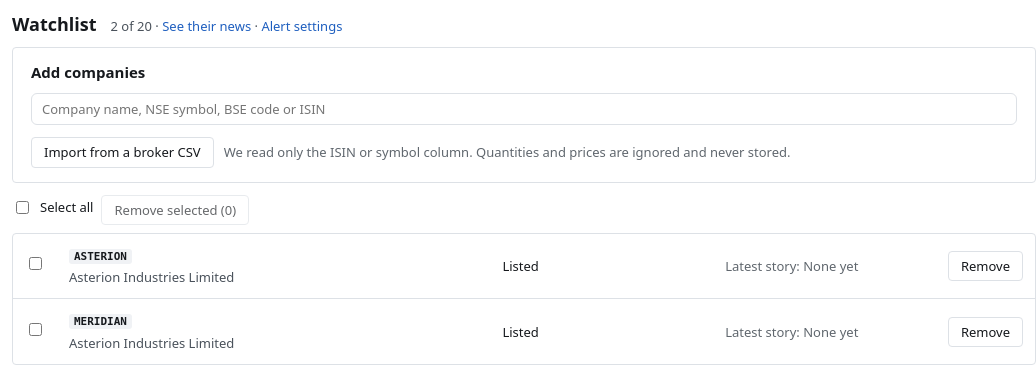
Test case: watchlist (PRD-003 §2) › keeps failed removals selected so they can be retried, without claiming success
Click the checkbox labelled "Select all": (22, 207) [16,201,29,214]
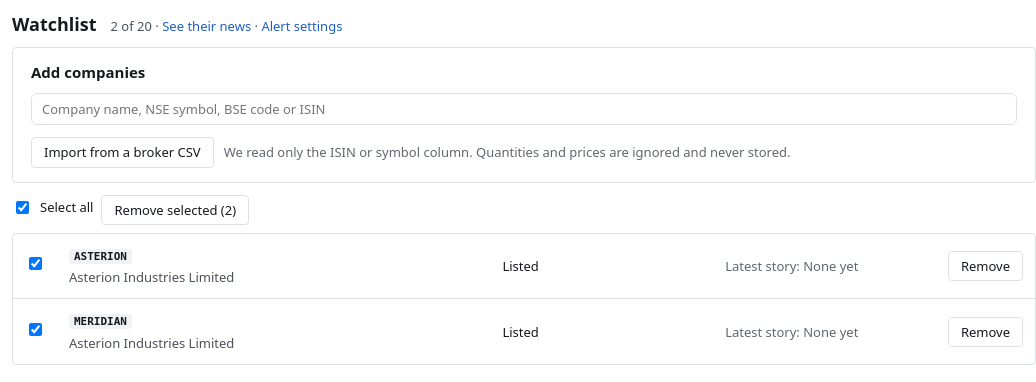
Click the button "Remove selected (2)": (175, 210) [102,195,249,225]
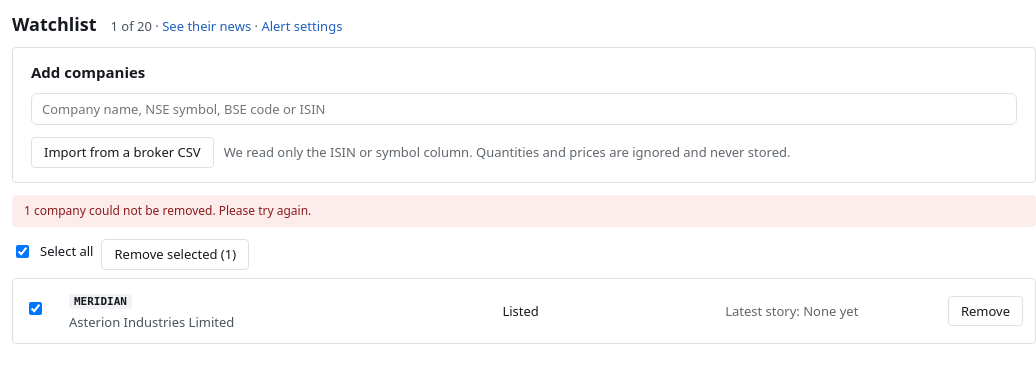
Now the checkbox named "Select MERIDIAN" is checked, box [29,302,42,315]
Now the message shows "1 company could not be removed", box [24,202,311,219]
Now the button "Remove selected (1)" is shown, box [102,239,249,270]
